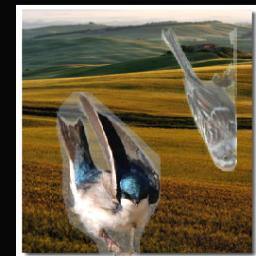Sparrow: (162, 28, 237, 171)
Swallow: (57, 93, 162, 256)
